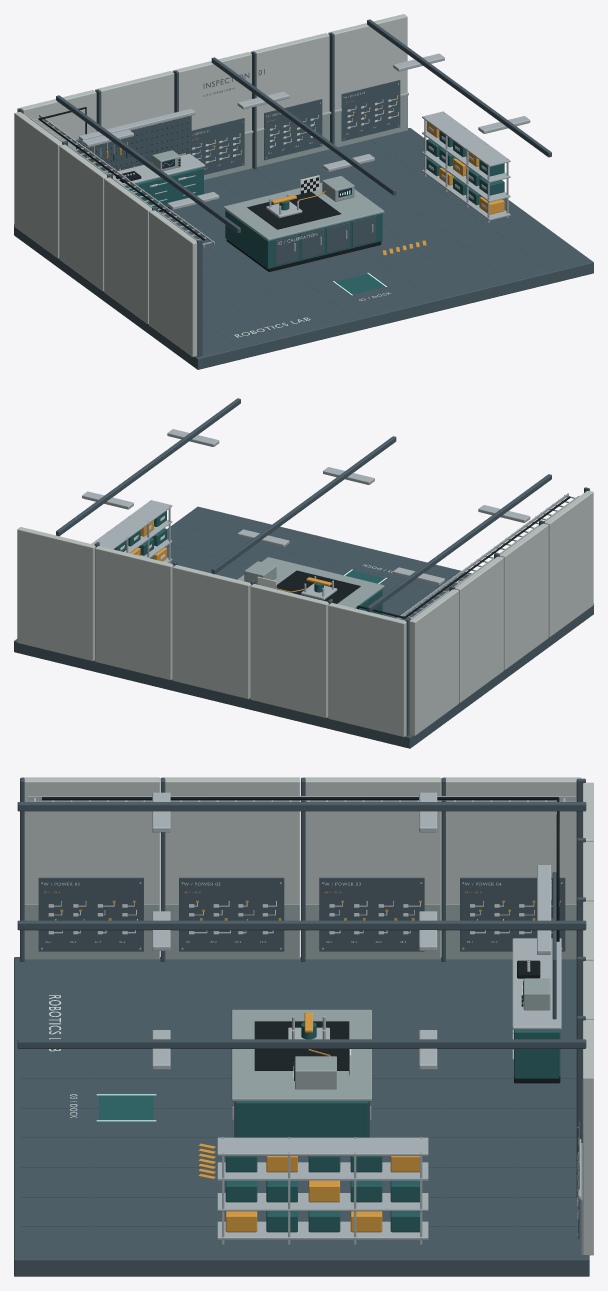
The model's file is lab.glb.
3 views of the same model, one above another, from view 1: azimuth 30°, elevation 25°; view 2: azimuth 150°, elevation 25°; view 3: azimuth 270°, elevation 25° (orthographic). The views are drawn at different scales.
Visible parts, largest first — view 1: lab_static_paint-slate, lab_static_wall-ivory, lab_static_alloy, lab_static_panel-light, lab_static_paint-teal, lab_static_rubber, lab_static_white, lab_static_amber; view 2: lab_static_wall-ivory, lab_static_paint-slate, lab_static_alloy, lab_static_panel-light, lab_static_rubber, lab_static_paint-teal, lab_static_amber; view 3: lab_static_paint-slate, lab_static_wall-ivory, lab_static_alloy, lab_static_panel-light, lab_static_paint-teal, lab_static_rubber, lab_static_amber, lab_static_white.
Part boxes in pixels (box(x1,y1,x2,y2)): lab_static_paint-slate: box(14, 19, 593, 369); lab_static_wall-ivory: box(14, 14, 407, 356); lab_static_alloy: box(28, 53, 530, 251); lab_static_panel-light: box(105, 95, 407, 240); lab_static_paint-teal: box(99, 131, 504, 294); lab_static_rubber: box(38, 107, 485, 271); lab_static_white: box(120, 92, 486, 337); lab_static_amber: box(93, 95, 504, 255); lab_static_wall-ivory: box(17, 490, 593, 736); lab_static_paint-slate: box(14, 398, 593, 748); lab_static_alloy: box(82, 429, 579, 619); lab_static_panel-light: box(237, 557, 384, 608); lab_static_rubber: box(124, 496, 570, 618); lab_static_paint-teal: box(114, 511, 384, 614); lab_static_amber: box(130, 520, 331, 592); lab_static_paint-slate: box(14, 777, 589, 1276); lab_static_wall-ivory: box(23, 777, 593, 1255); lab_static_alloy: box(28, 792, 581, 1244); lab_static_panel-light: box(24, 904, 582, 1254); lab_static_paint-teal: box(99, 1022, 560, 1232); lab_static_rubber: box(42, 797, 560, 1083); lab_static_amber: box(44, 891, 578, 1232); lab_static_white: box(44, 880, 578, 1218).
Bounding box in the file's own units: 10.26 × 3.21 × 8.26.
